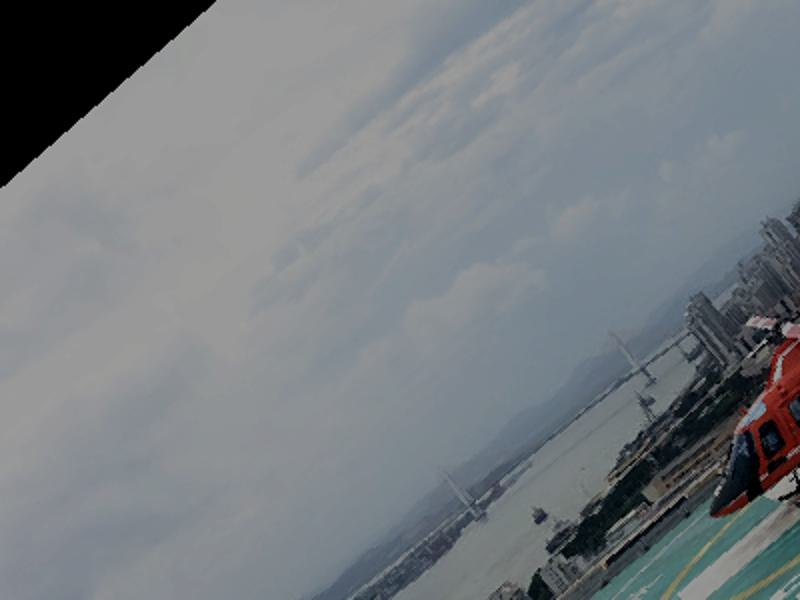Apron: (637, 345, 800, 600)
